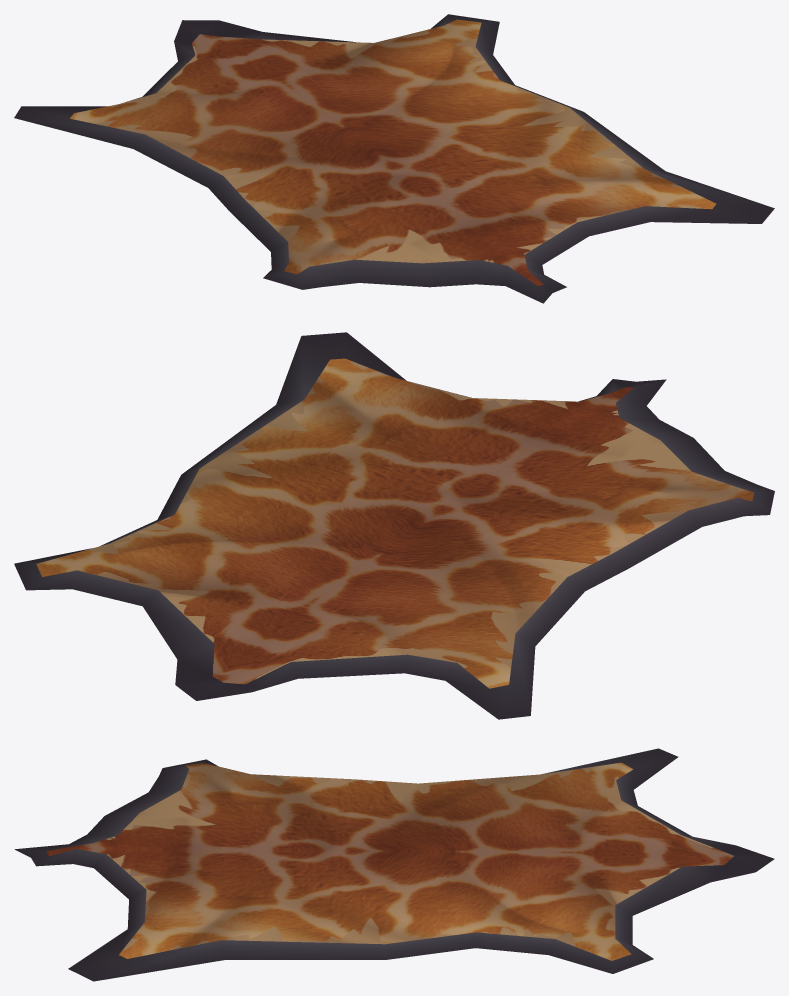
File: Leather_Bed_1B.fbx
3 views of the same model, one above another, from view 1: azimuth 30°, elevation 25°; view 2: azimuth 150°, elevation 25°; view 3: azimuth 270°, elevation 25° (orthographic). The views are drawn at different scales.
Visible parts, largest first — view 1: Leather_Bed_1B; view 2: Leather_Bed_1B; view 3: Leather_Bed_1B.
Part boxes in pixels (x1,y1,x2,y2): Leather_Bed_1B: (14,14,774,303); Leather_Bed_1B: (14,332,774,719); Leather_Bed_1B: (14,748,774,981).
Size of the model in its own units: 1.49 by 0.0293 by 2.06.
